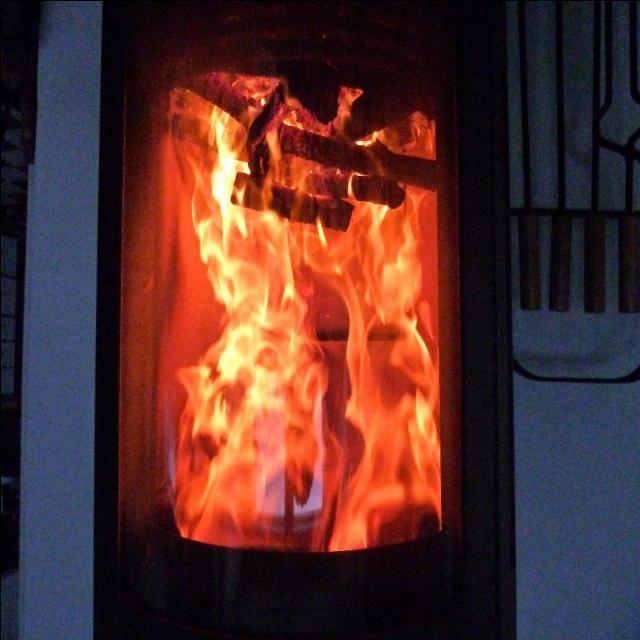Fire: (156, 82, 444, 564)
